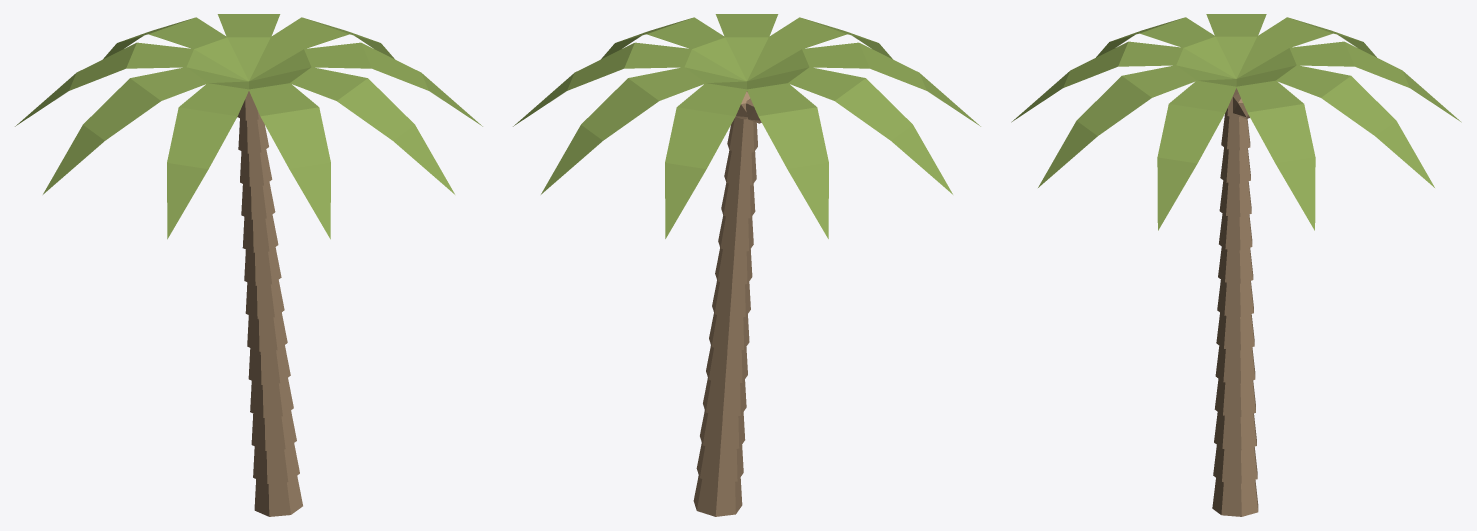
Rendered from Palm.fbx.
3 renders of one model, left to right at view 1: azimuth 30°, elevation 25°; view 2: azimuth 150°, elevation 25°; view 3: azimuth 270°, elevation 25°, orthographic. The views are drawn at different scales.
Visible parts, largest first — view 1: Frond1, Frond2, Frond0, Frond3, Frond4, Frond8, Frond5, Frond7, Frond6, TrunkRing0, TrunkRing1, TrunkRing2 (+9 smaller); view 2: Frond7, Frond8, Frond0, Frond6, Frond1, Frond5, Frond2, Frond4, Frond3, TrunkRing0, TrunkRing1, TrunkRing2 (+9 smaller); view 3: Frond4, Frond5, Frond3, Frond6, Frond2, Frond7, Frond1, Frond8, Frond0, TrunkRing0, TrunkRing1, TrunkRing2 (+9 smaller).
Part boxes in pixels (<box>): Frond1: <box>167,81,249,239</box>; Frond2: <box>248,81,330,239</box>; Frond0: <box>43,67,247,194</box>; Frond3: <box>250,67,454,194</box>; Frond4: <box>250,42,482,126</box>; Frond8: <box>15,42,247,126</box>; Frond5: <box>249,17,394,81</box>; Frond7: <box>103,17,248,81</box>; Frond6: <box>217,14,280,80</box>; TrunkRing0: <box>254,476,302,516</box>; TrunkRing1: <box>253,443,299,483</box>; TrunkRing2: <box>251,410,296,450</box>; Frond7: <box>665,81,747,238</box>; Frond8: <box>746,81,828,238</box>; Frond0: <box>748,67,952,194</box>; Frond6: <box>541,67,745,194</box>; Frond1: <box>747,42,980,126</box>; Frond5: <box>513,42,746,126</box>; Frond2: <box>747,17,892,80</box>; Frond4: <box>601,17,746,80</box>; Frond3: <box>715,14,778,80</box>; TrunkRing0: <box>693,475,742,516</box>; TrunkRing1: <box>696,443,743,483</box>; TrunkRing2: <box>700,410,745,450</box>; Frond4: <box>1157,79,1236,230</box>; Frond5: <box>1236,79,1315,230</box>; Frond3: <box>1038,65,1235,187</box>; Frond6: <box>1237,65,1434,187</box>; Frond2: <box>1011,41,1235,122</box>; Frond7: <box>1237,41,1461,122</box>; Frond1: <box>1096,17,1235,78</box>; Frond8: <box>1237,17,1376,78</box>; Frond0: <box>1206,14,1266,78</box>; TrunkRing0: <box>1212,478,1258,516</box>; TrunkRing1: <box>1213,445,1257,483</box>; TrunkRing2: <box>1214,412,1256,450</box>.
Bounding box in the file's own units: 4.42 × 4.77 × 4.49.
